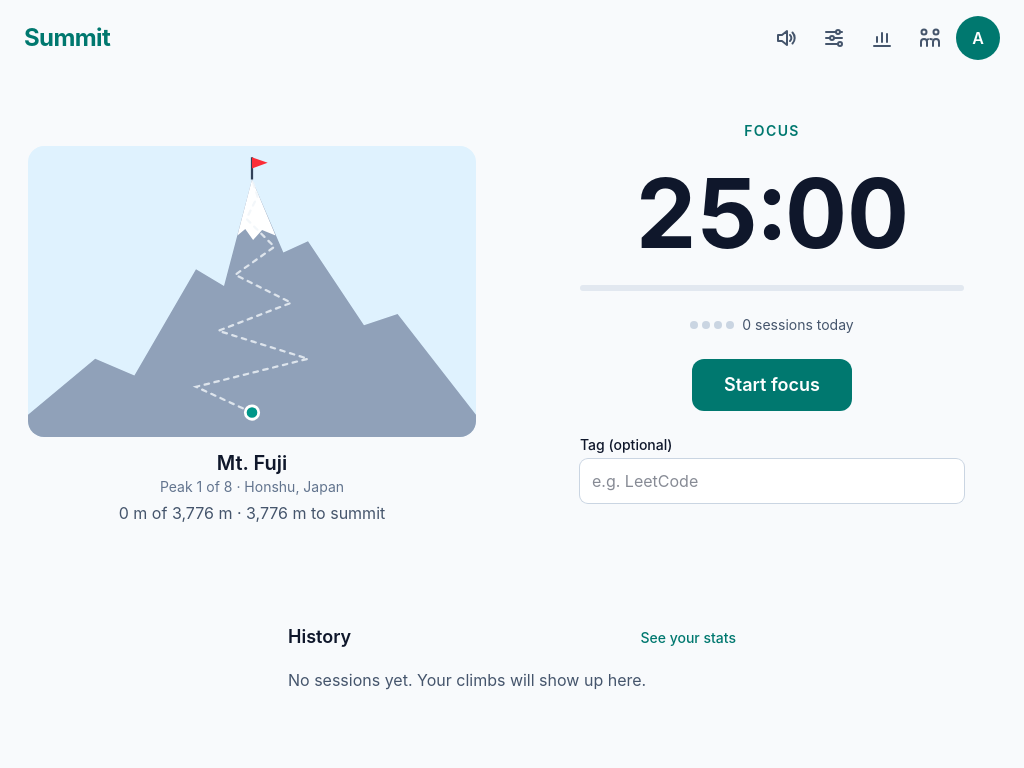
signed in › reports the start and the completion, then shows the server's numbers
Check: the link named "Account (Ana)" is shown, box [956, 16, 1000, 60]
Check: the picture named "Climber at" is shown, box [28, 146, 476, 437]
Click the button "Start focus" at (772,384), box [692, 358, 852, 410]
Wait 1500000 ms
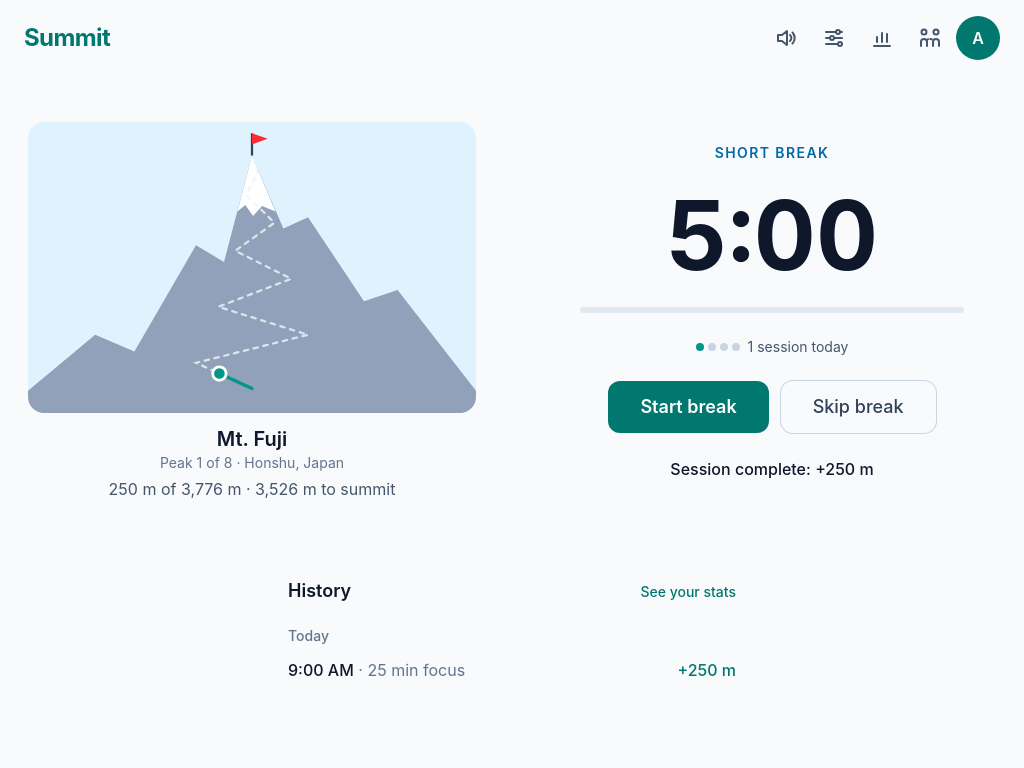
Check: the picture named "Climber at 250 m of 3,776 m on Mt. Fuji" is shown, box [28, 122, 476, 413]
Check: the text "+250 m" is shown, box [678, 658, 736, 682]
